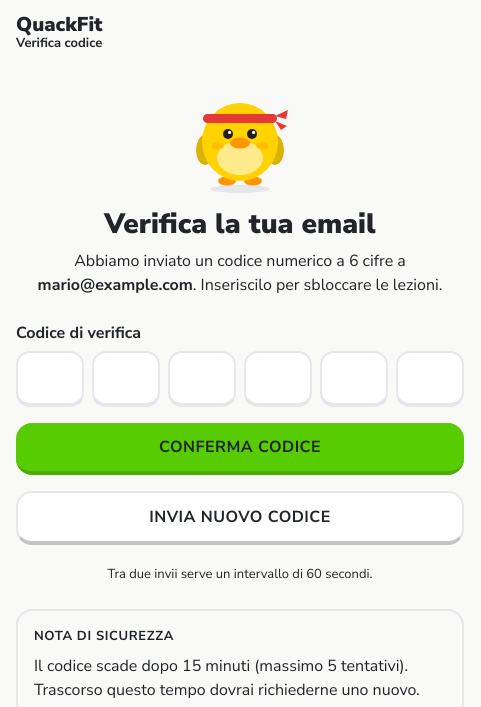
verifica email › CODICE_SCADUTO: messaggio sotto il codice e caselle svuotate
expect the heading "Verifica la tua email" is shown: met, box [104,205,376,243]
Click the field named "Cifra 1 di 6": point(50, 379) [16,351,84,407]
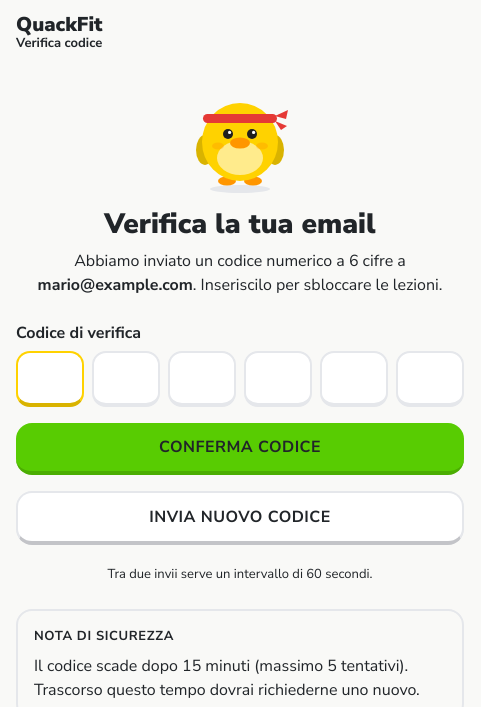
Type keys "000000"
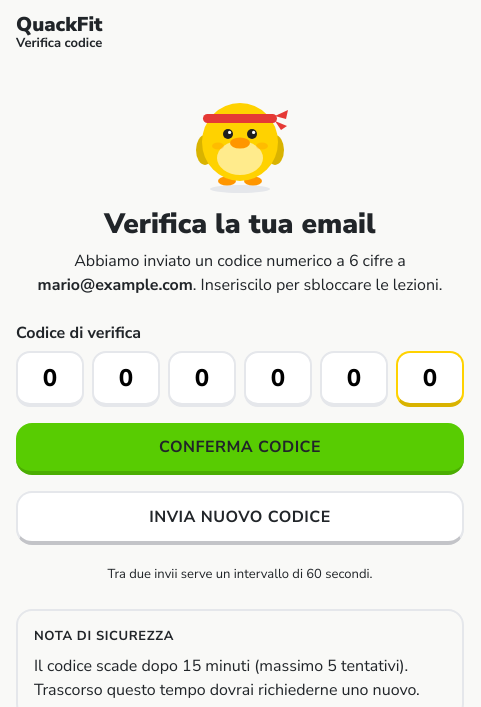
Click the button "Conferma codice": point(240, 449) [16,423,464,475]
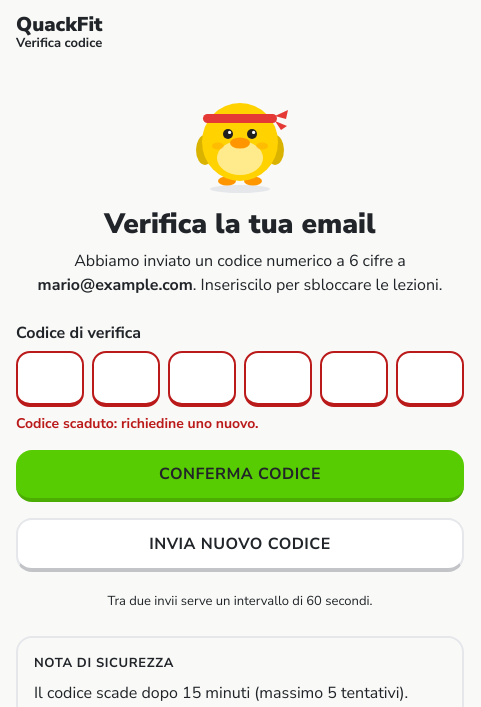
expect the text "Codice scaduto: richiedine uno nuovo." is shown: met, box [16,414,258,433]
expect the field named "Cifra 1 di 6" is empty: met, box [16,351,84,407]
